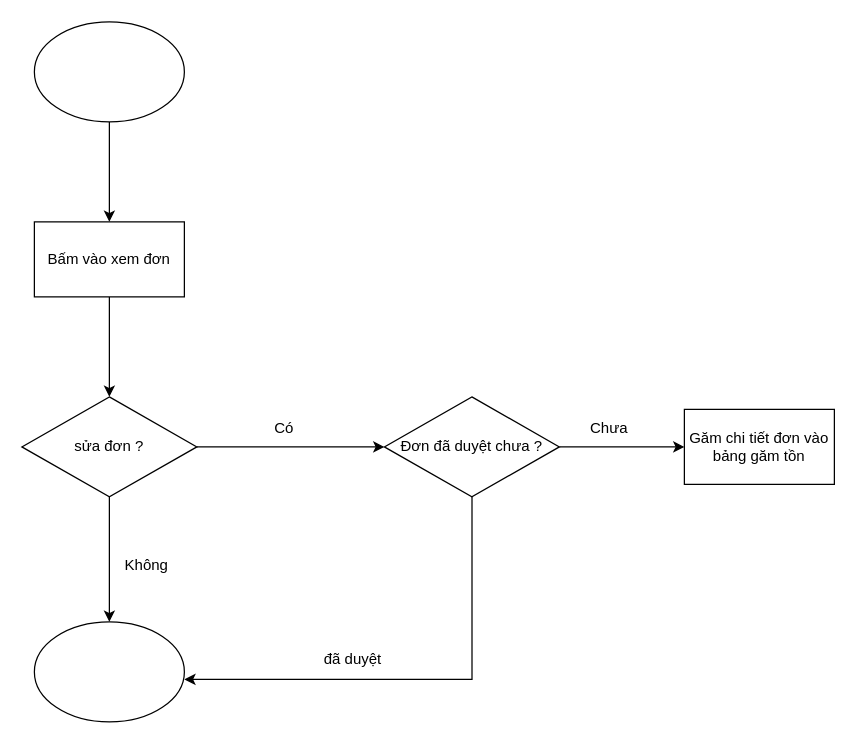
Image size: 856x744. Some labels were removed from this diagram. The shapes that lost their labels are listed below. From the top down, each one's centre as x and y in pixels, then its label:
At (x=108, y=71): "Bắt đầu".
At (x=108, y=671): "Kết thúc".
